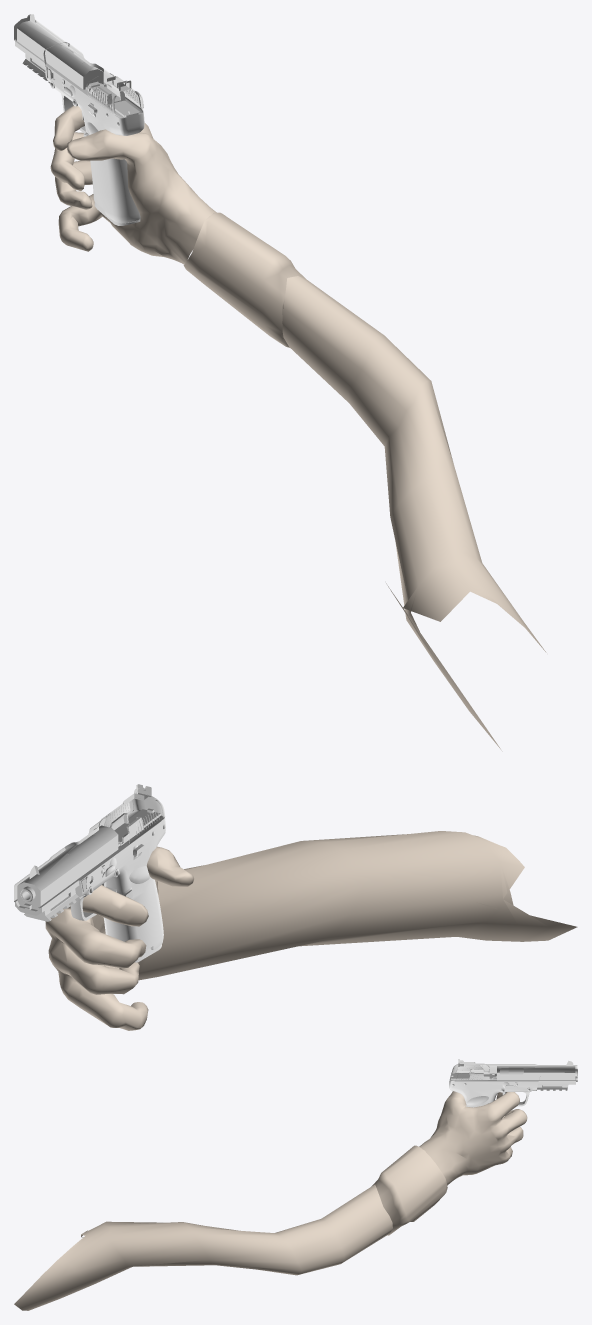
Rendered from fiveseven_posed.glb.
The picture shows the model from 3 angles, top to bottom: view 1: azimuth 30°, elevation 25°; view 2: azimuth 150°, elevation 25°; view 3: azimuth 270°, elevation 25°; orthographic projection. The views are drawn at different scales.
Parts seen in each view (by area): view 1: char, body, slide; view 2: char, body, slide, mag; view 3: char, body, slide.
Part boxes in pixels (left/top/right/bottom): char: left=50, top=105, right=546, bottom=751; body: left=15, top=41, right=144, bottom=223; slide: left=14, top=14, right=143, bottom=117; char: left=45, top=831, right=577, bottom=1030; body: left=15, top=817, right=165, bottom=950; slide: left=14, top=784, right=165, bottom=911; mag: left=109, top=813, right=161, bottom=962; char: left=14, top=1091, right=527, bottom=1310; body: left=449, top=1066, right=577, bottom=1107; slide: left=451, top=1059, right=577, bottom=1081.
Bounding box in the file's own units: 0.2529 × 0.4537 × 0.9637.
